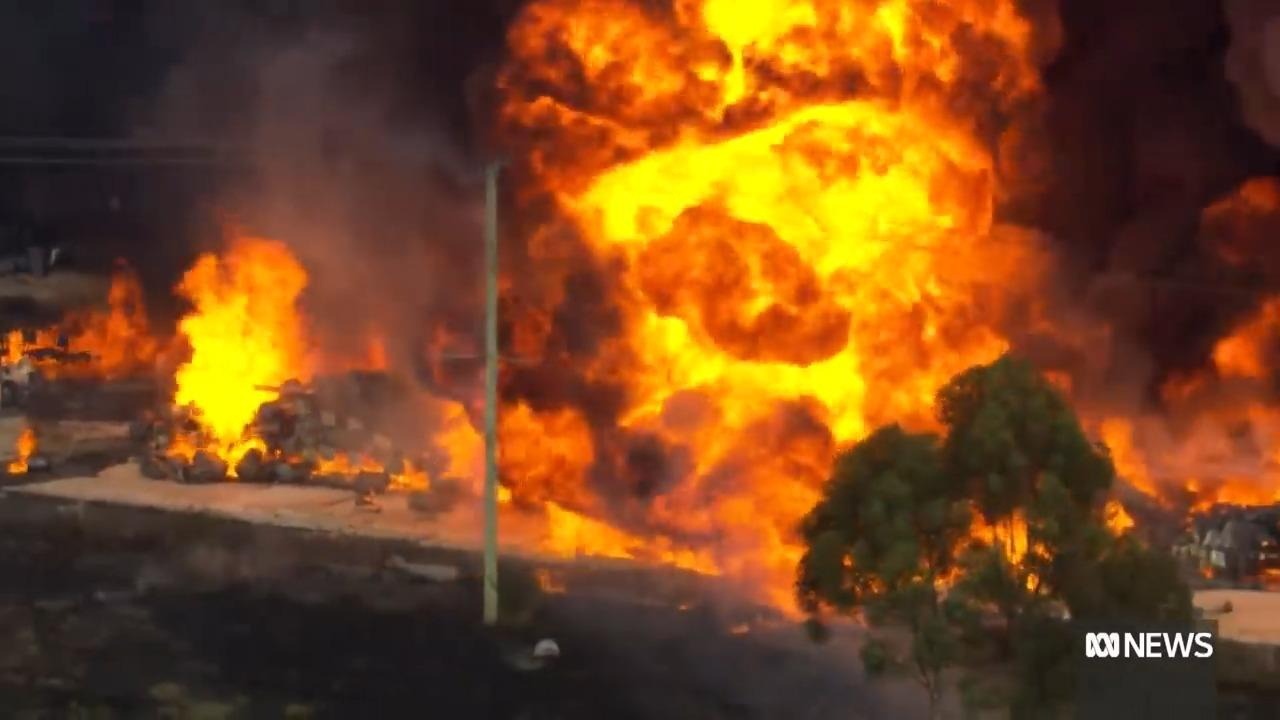fire: (30, 0, 1016, 589)
